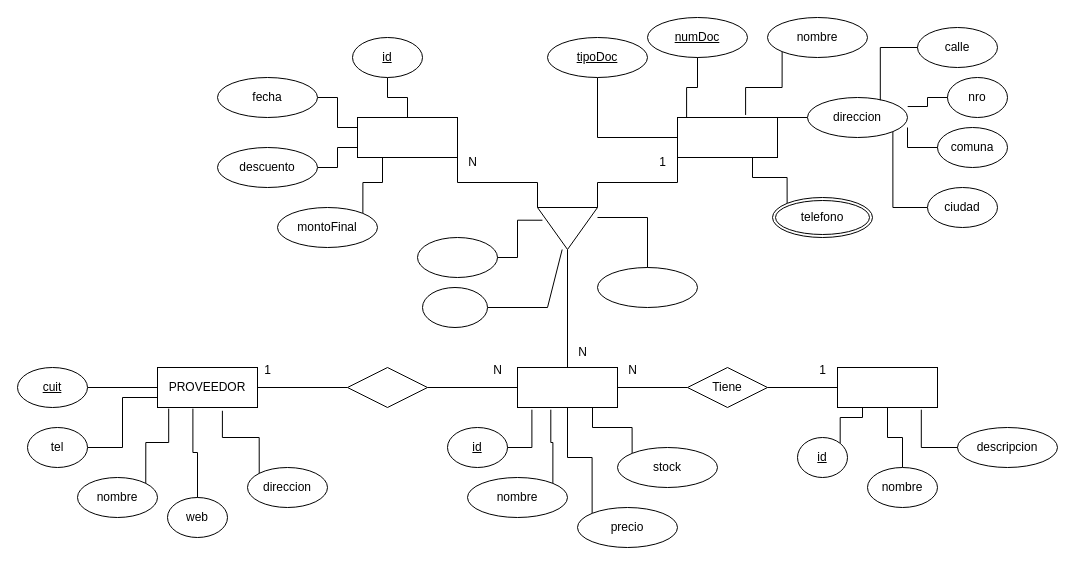
This 1075x565 diagram has some shape labels left out. The box of each missing label's shape, as (x1, y1, x2, y2) in pixels:
cantProd: (422, 286, 488, 328)
CATEGORÍA: (836, 366, 938, 408)
CLIENTE: (676, 116, 778, 158)
montoTotalProd: (596, 266, 698, 308)
precioProd: (416, 236, 498, 278)
PRODUCTO: (516, 366, 618, 408)
Provee: (346, 366, 428, 408)
VENTA: (356, 116, 458, 158)
